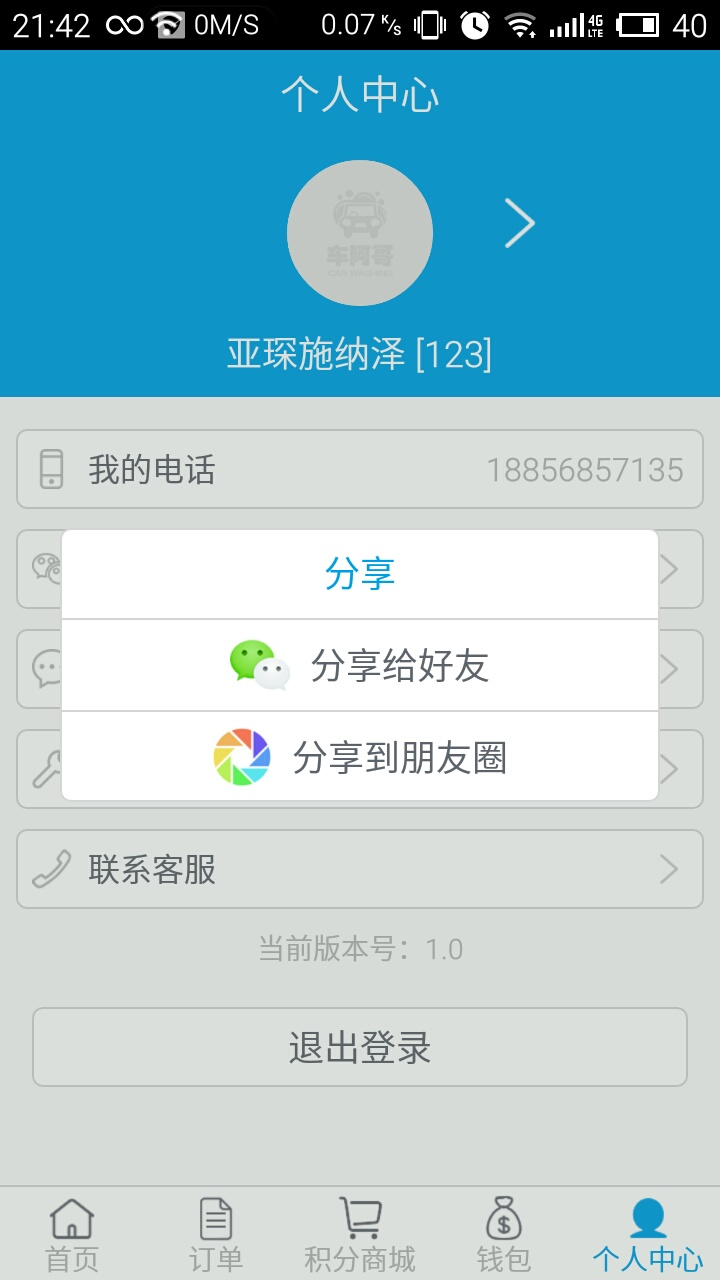checkboxs: (55, 521, 663, 810)
